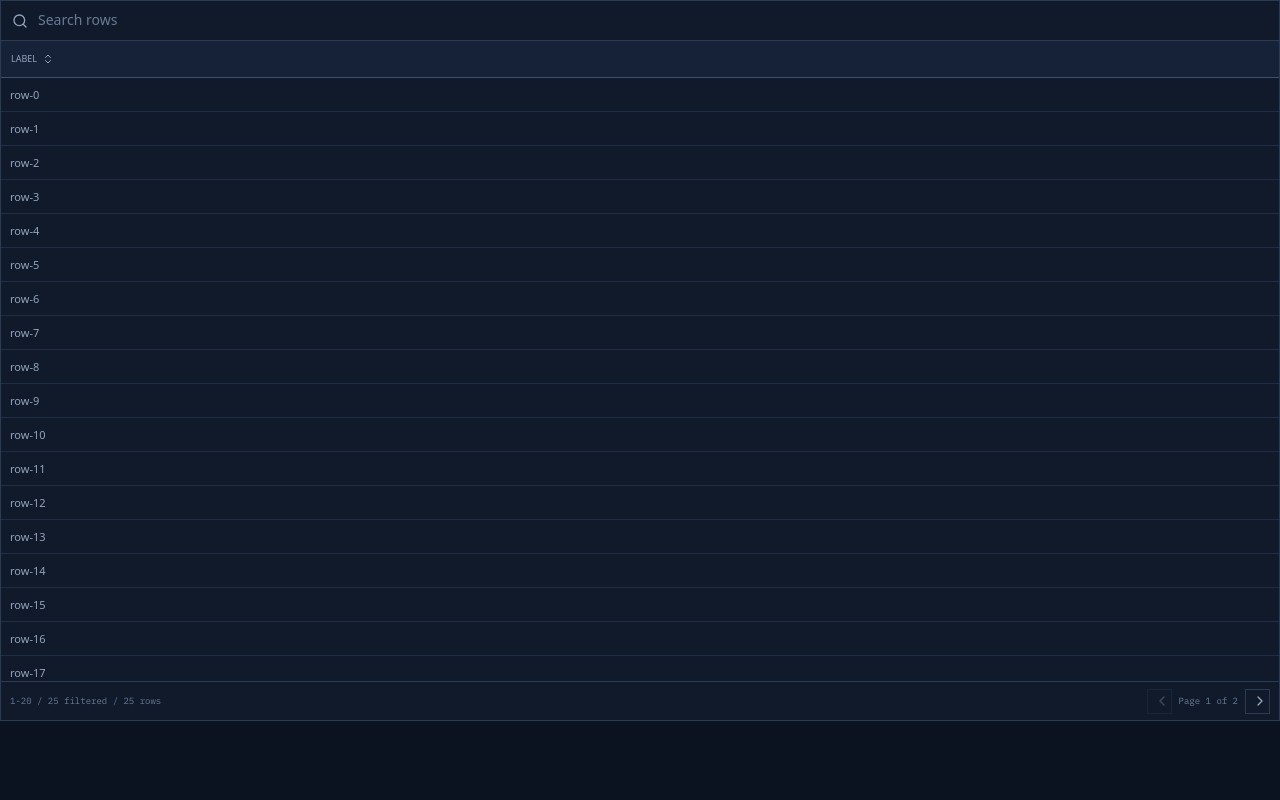
Test case: DenseTable pagination › paginates large evidence tables without parsing or truncating rows
Expected: the text "row-0" is shown, [1,78,1279,112]
Expected: the text "row-24" is not shown
Click the button named "Next table page" at (1258, 701), box [1245,688,1270,714]
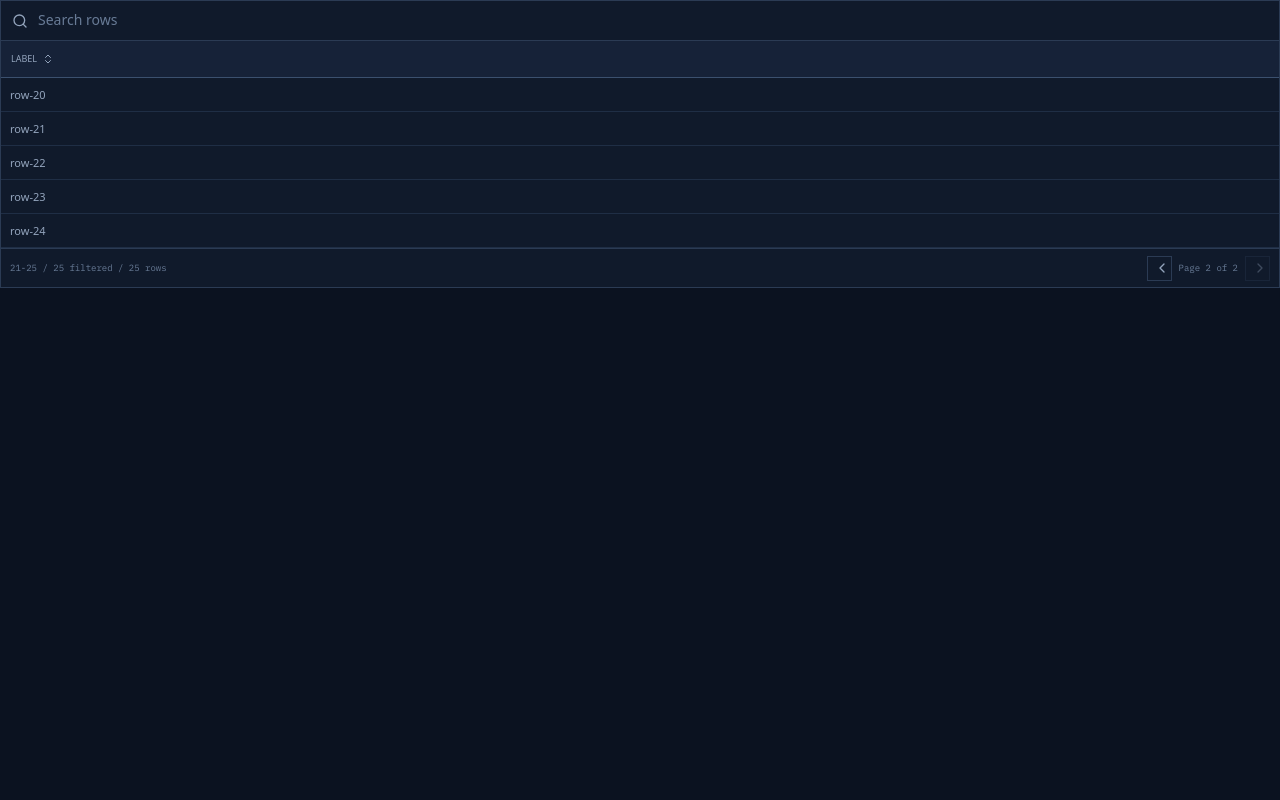
Now the text "row-24" is shown, box [1,214,1279,248]
Now the text "Page 2 of 2" is shown, box [1179,262,1238,274]
